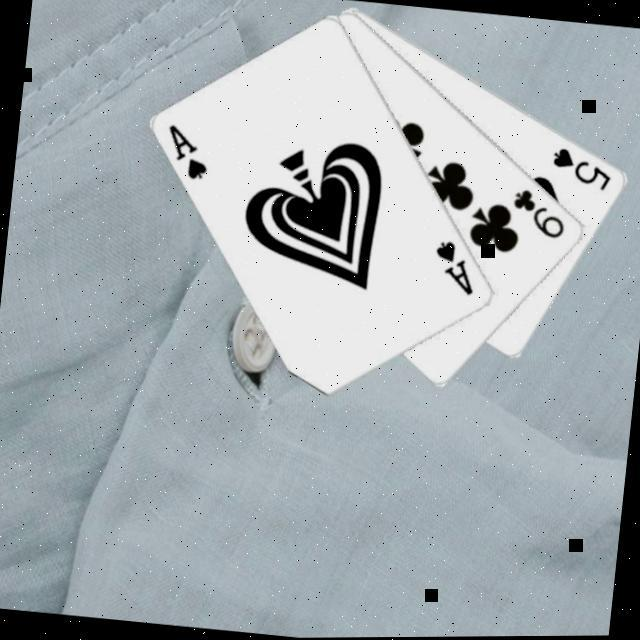5S: (549, 142, 619, 194)
9C: (508, 182, 573, 242)
AS: (162, 119, 218, 182), (430, 235, 484, 298)
